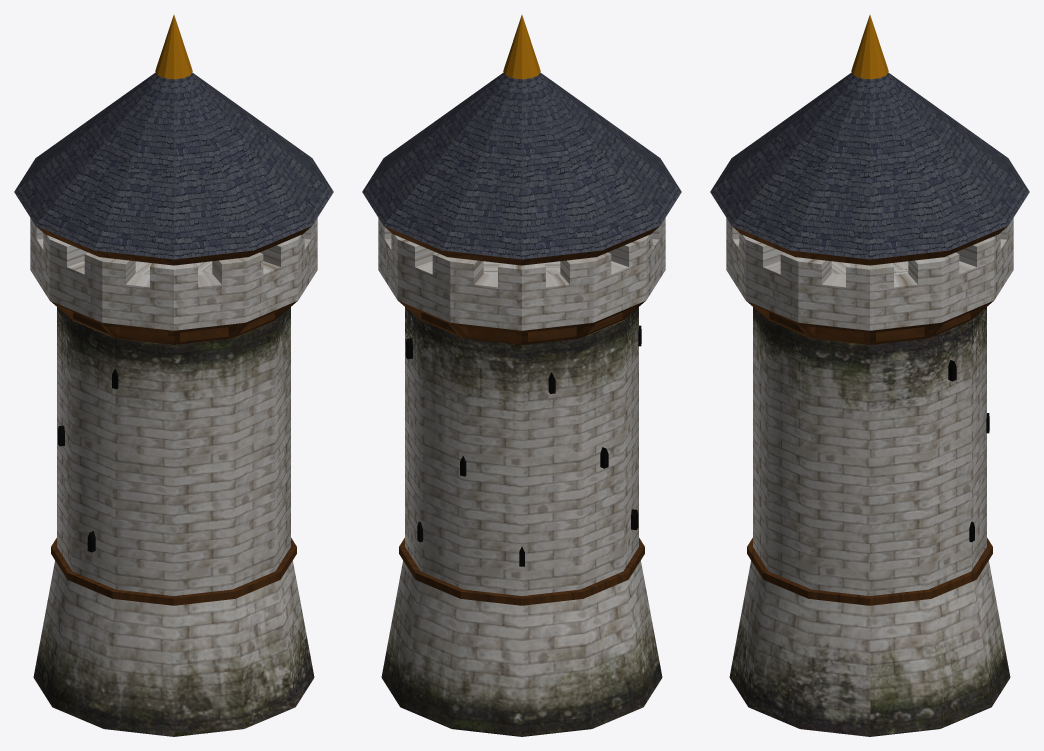
Rendered from tour.FBX.
3 views of the same model, side by side, from view 1: azimuth 30°, elevation 25°; view 2: azimuth 150°, elevation 25°; view 3: azimuth 270°, elevation 25° (orthographic).
Visible parts, largest first — view 1: tour01; view 2: tour01; view 3: tour01.
Part boxes in pixels (x1,y1,x2,y2): tour01: (14,15,333,736); tour01: (362,15,681,736); tour01: (710,15,1029,736).
Size of the model in its own units: 11.38 by 26.06 by 11.38.
